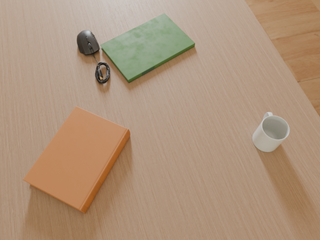book: (23, 106, 130, 213), (100, 13, 195, 83)
cup: (253, 112, 290, 152)
mouse: (77, 30, 100, 56)
